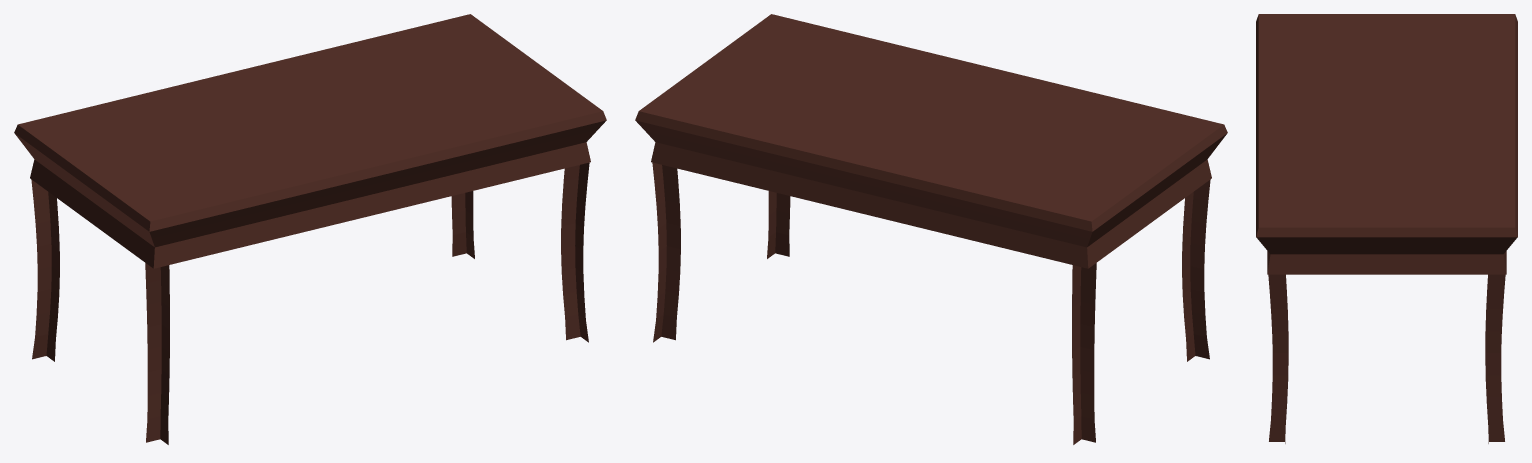
The model's file is rosewood_table.glb.
3 views of the same model, side by side, from view 1: azimuth 30°, elevation 25°; view 2: azimuth 150°, elevation 25°; view 3: azimuth 270°, elevation 25° (orthographic). The views are drawn at different scales.
Visible parts, largest first — view 1: Imperial_Rosewood_Table_Master; view 2: Imperial_Rosewood_Table_Master; view 3: Imperial_Rosewood_Table_Master.
Boxes of the visible parts, box(x1,y1,x2,y2) form: Imperial_Rosewood_Table_Master: box(14, 14, 606, 444); Imperial_Rosewood_Table_Master: box(635, 14, 1227, 444); Imperial_Rosewood_Table_Master: box(1256, 14, 1517, 443).
Bounding box in the file's own units: 1.6 × 0.783 × 0.82.
